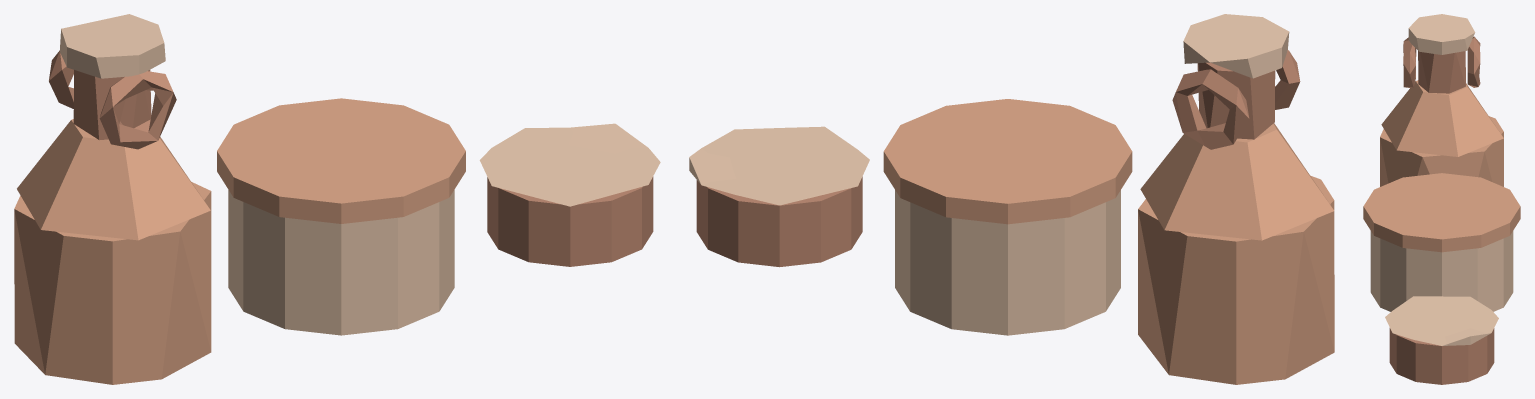
File: 45-Arte3D_jarrones_urnas.glb
3 renders of one model, left to right at view 1: azimuth 30°, elevation 25°; view 2: azimuth 150°, elevation 25°; view 3: azimuth 270°, elevation 25°, orthographic. The views are drawn at different scales.
Parts seen in each view (by area): view 1: SM_Jarron_M_Jarrones_Barro, SM_Jarron_M_Jarrones_Barro_Claro, SM_Jarron_M_Jarrones_Barro_Osc; view 2: SM_Jarron_M_Jarrones_Barro, SM_Jarron_M_Jarrones_Barro_Claro, SM_Jarron_M_Jarrones_Barro_Osc; view 3: SM_Jarron_M_Jarrones_Barro, SM_Jarron_M_Jarrones_Barro_Claro, SM_Jarron_M_Jarrones_Barro_Osc.
Boxes of the visible parts, <box> form: SM_Jarron_M_Jarrones_Barro: <box>14,98,465,384</box>; SM_Jarron_M_Jarrones_Barro_Claro: <box>59,14,660,335</box>; SM_Jarron_M_Jarrones_Barro_Osc: <box>49,51,653,266</box>; SM_Jarron_M_Jarrones_Barro: <box>883,99,1334,384</box>; SM_Jarron_M_Jarrones_Barro_Claro: <box>689,14,1289,335</box>; SM_Jarron_M_Jarrones_Barro_Osc: <box>696,50,1300,267</box>; SM_Jarron_M_Jarrones_Barro: <box>1363,80,1520,252</box>; SM_Jarron_M_Jarrones_Barro_Claro: <box>1370,14,1513,345</box>; SM_Jarron_M_Jarrones_Barro_Osc: <box>1389,36,1494,384</box>.
Bounding box in the file's own units: 1.9 × 0.9 × 0.66.
